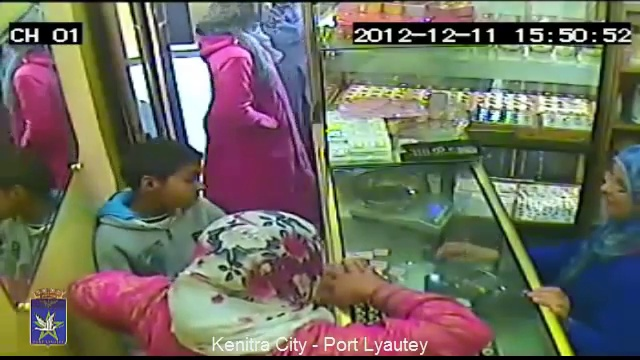face: (157, 162, 207, 211), (599, 170, 637, 214)
